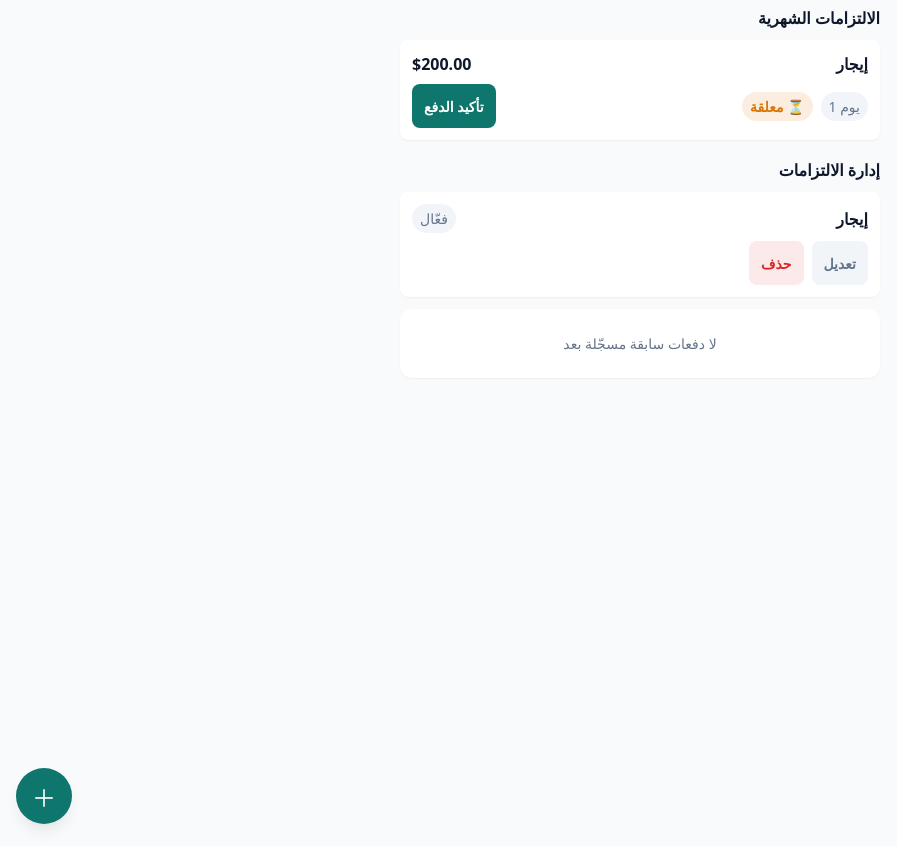
Test: <ObligationsView> › pays a pending payment through the optimistic queue
The image size is (897, 846).
Expected: the number of list items with test id "payment-row" is 1, top-left (400, 40), bottom-right (880, 140)
Click the button with test id "payment-pay" at [454, 106], box top-left (412, 84), bottom-right (496, 128)
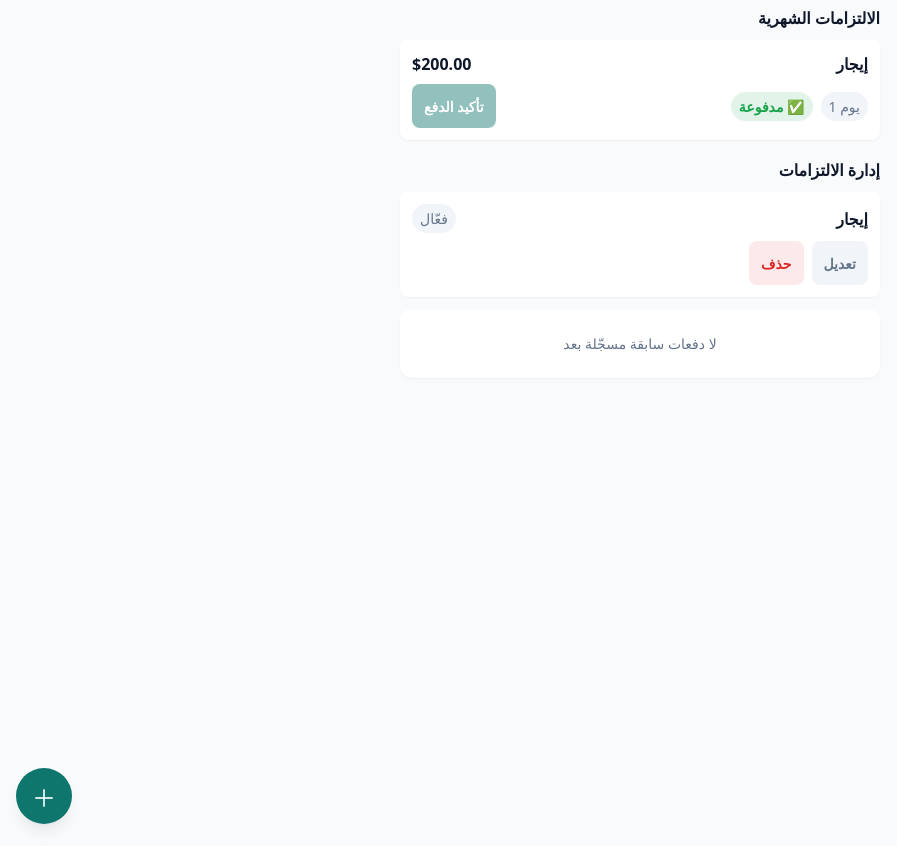
Expected: the text with test id "payment-status" shows "مدفوعة", top-left (739, 96), bottom-right (805, 116)
Expected: the button with test id "payment-pay" is disabled, top-left (412, 84), bottom-right (496, 128)
